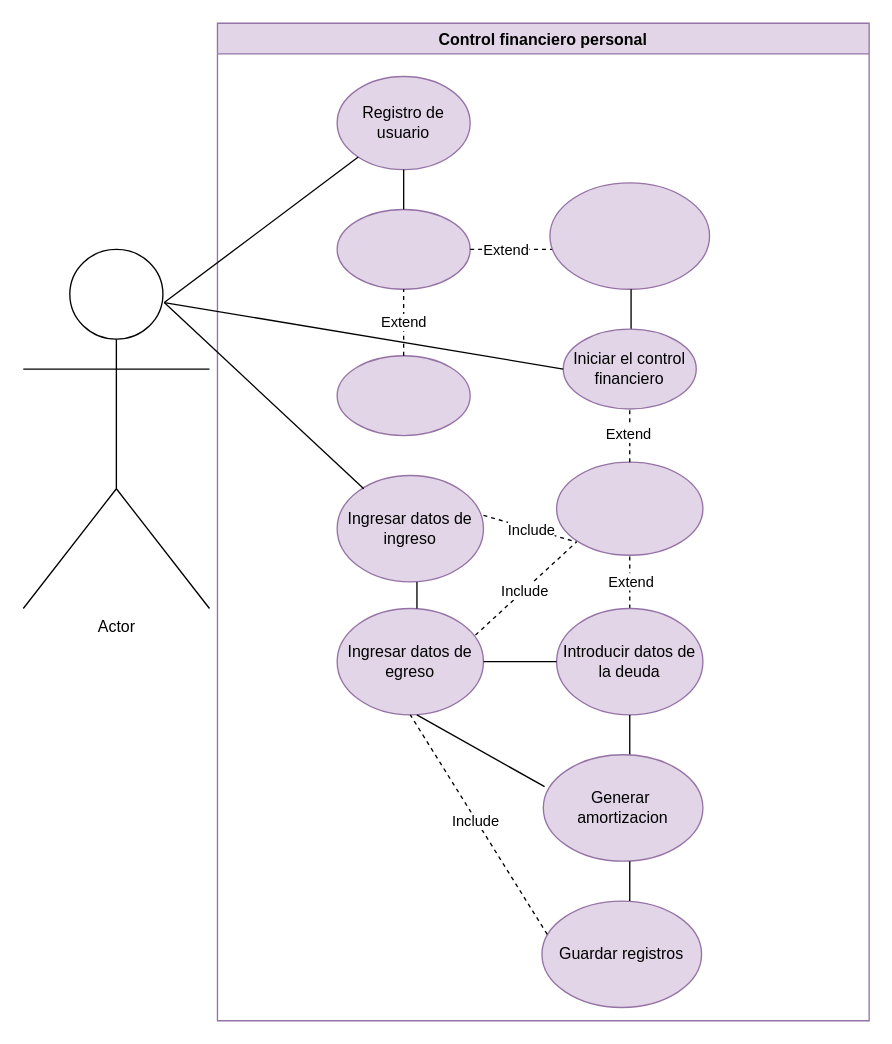
The diagram is 892 pixels wide and 1044 high, and some of its shapes have lost their labels. The centre of each missing label's shape, as x and y in pixels:
"Calcular la deuda" goes at point 629,508.
"Iniciar sesion" goes at point 403,248.
"Mensaje de bienbenida" goes at point 403,395.
"Mostrar resumen financiero" goes at point 629,235.
